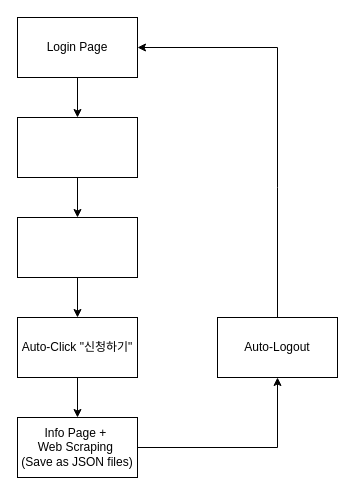
This 355x495 diagram has some shape labels left out. The shapes that lost their labels are listed below. From the top down, each one's centre as x and y in pixels, then its label:
At (77,147): "Auto-Login".
At (77,247): "Register Page".
